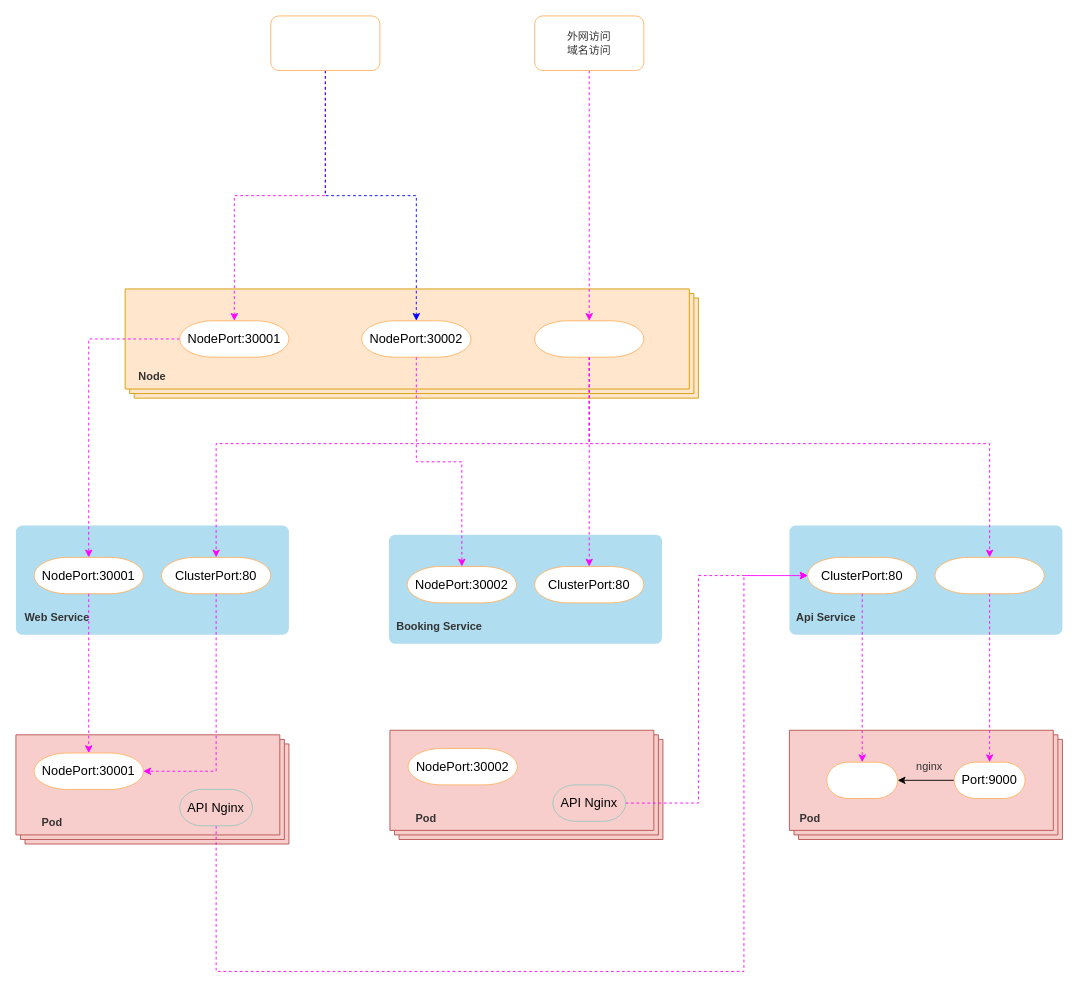
The diagram is 1078 pixels wide and 995 high, and some of its shapes have lost their labels. Here are the shapes that lost their labels. From the top down, the centre of each, then its label:
At (x=325, y=43): "内网访问 NodeIp+Port".
At (x=589, y=338): "IngressPort:80".
At (x=989, y=575): "ClusterPort:9000".
At (x=862, y=780): "Port:80".
